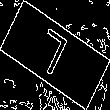L_SW: (33, 25, 77, 85)
